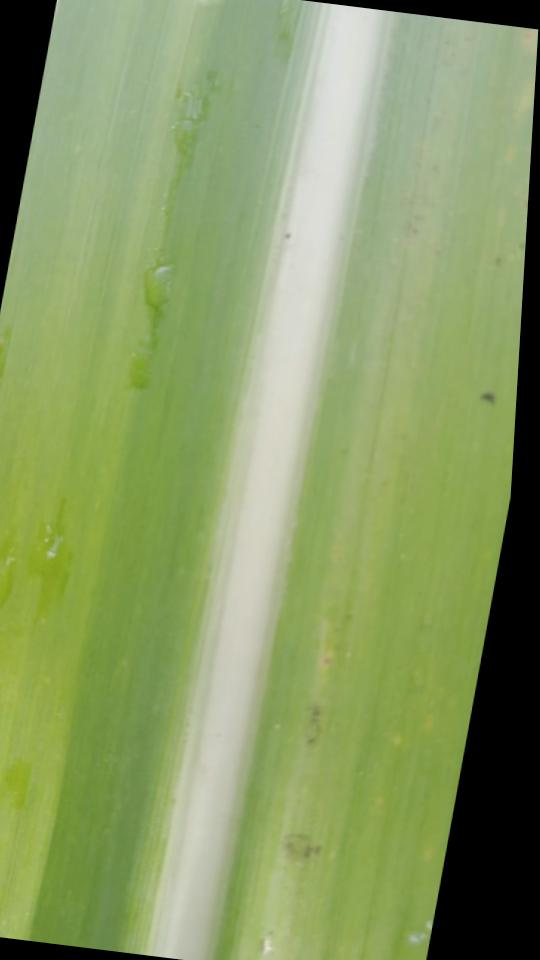Healthy: (0, 0, 538, 960)
